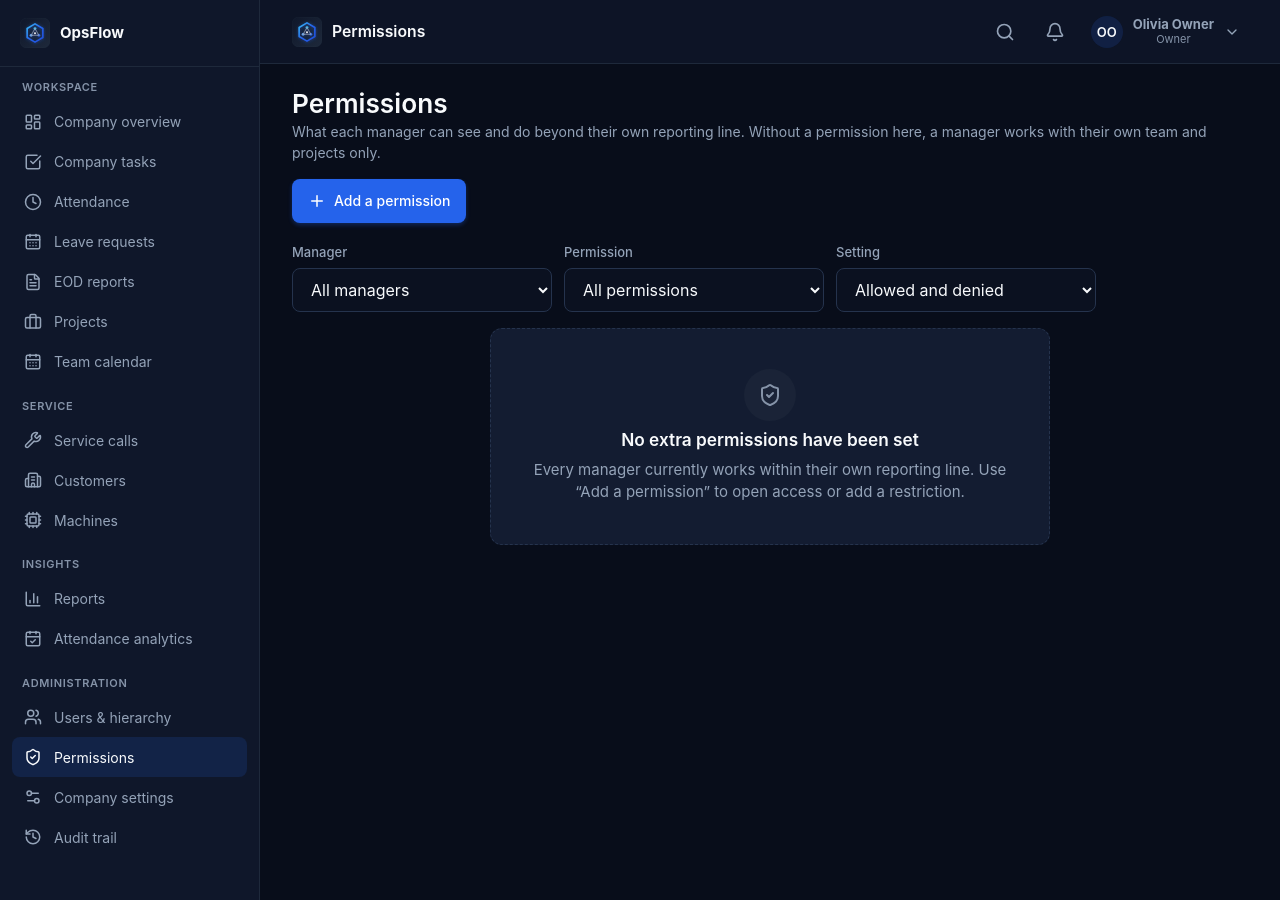
Test case: Add a permission › offers only combinations the backend supports: deny only where it changes something
Click the button "Add a permission": coordinates (379, 201) [292,179,466,223]
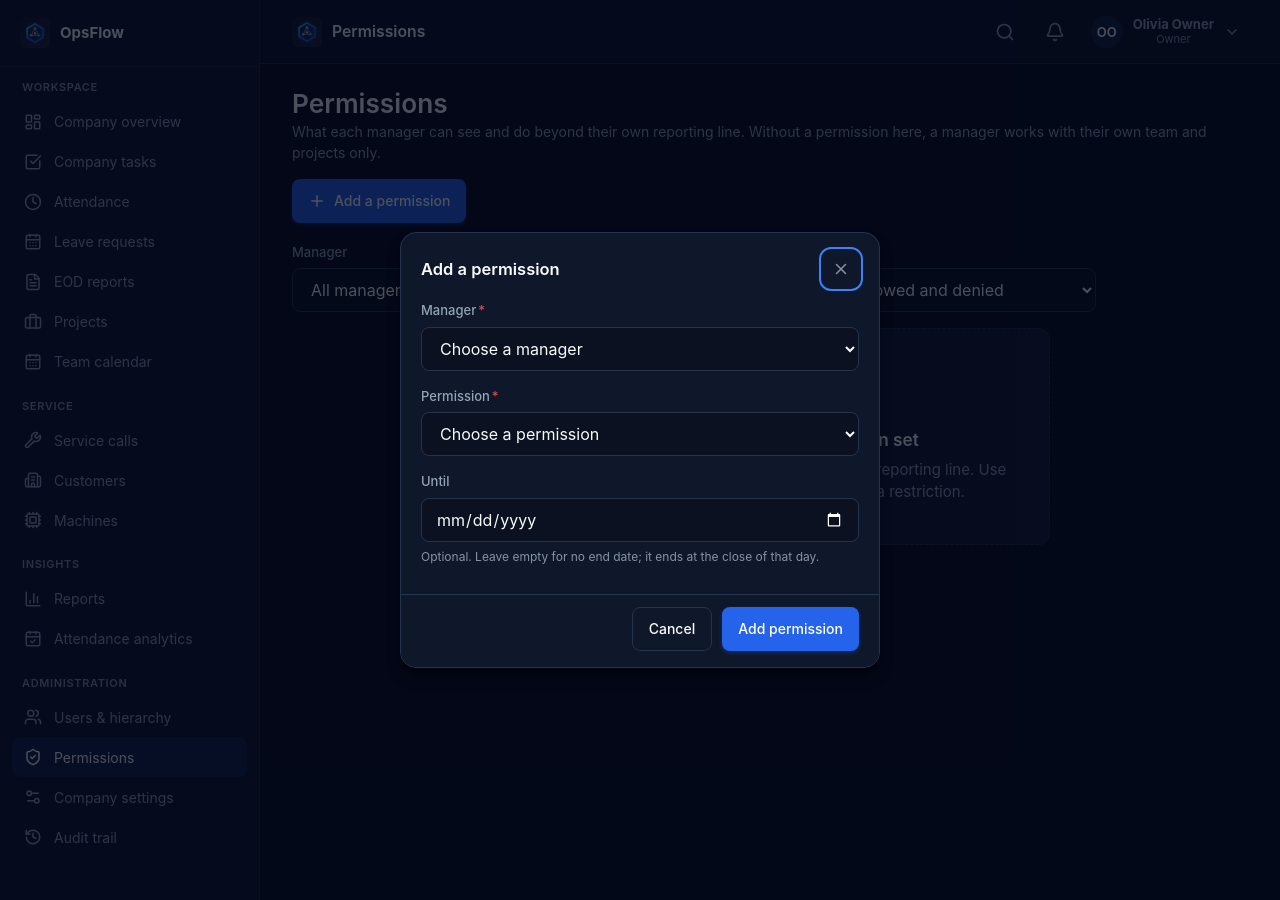
Select "Manager visibility: See another manager's team" in the dropdown labelled "Permission*": coordinates (640, 434) [421,412,859,456]
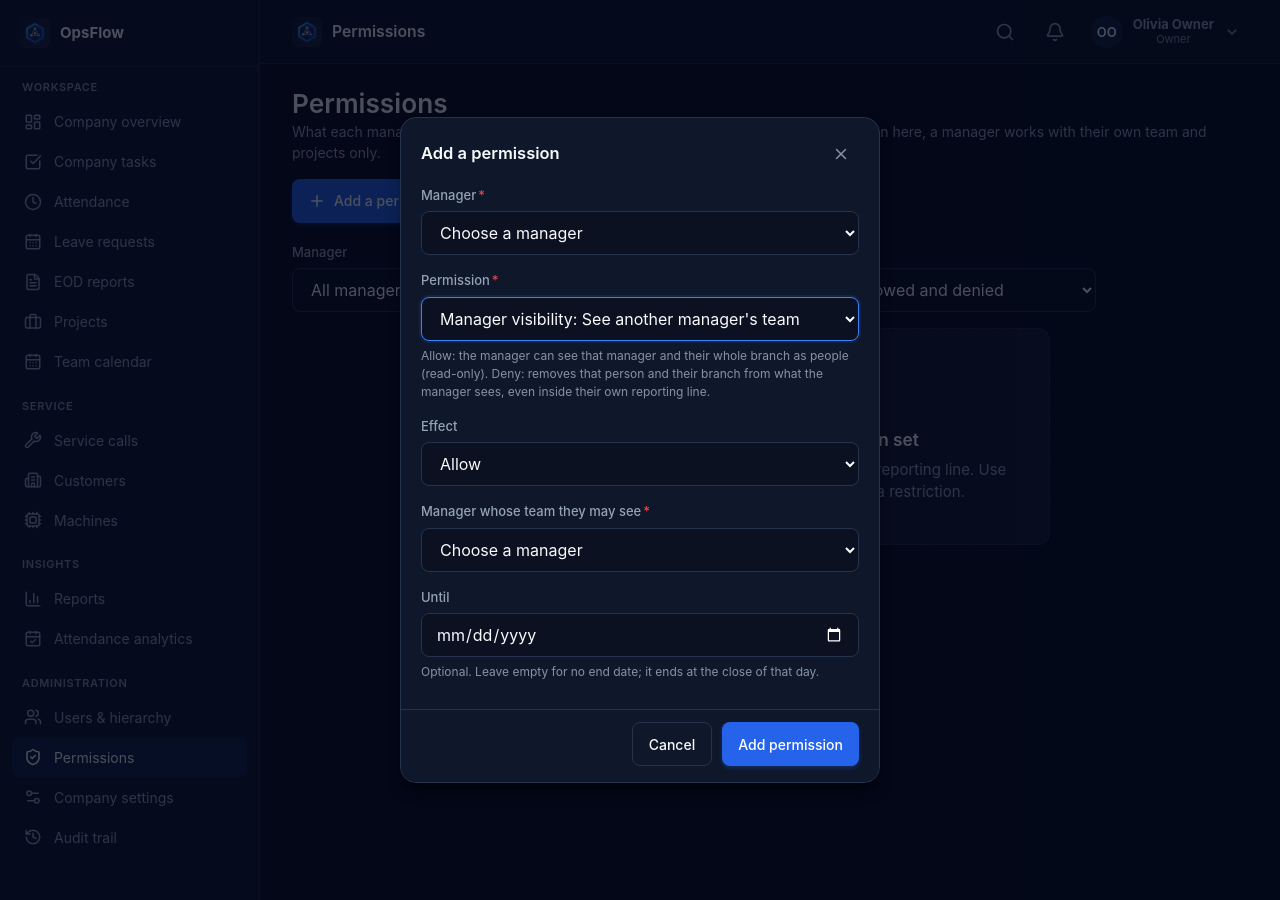
expect the dropdown labelled "Effect" is shown: met, box [421,442,859,486]
Select "Projects: Edit a project they do not own" in the dropdown labelled "Permission*": coordinates (640, 319) [421,297,859,341]
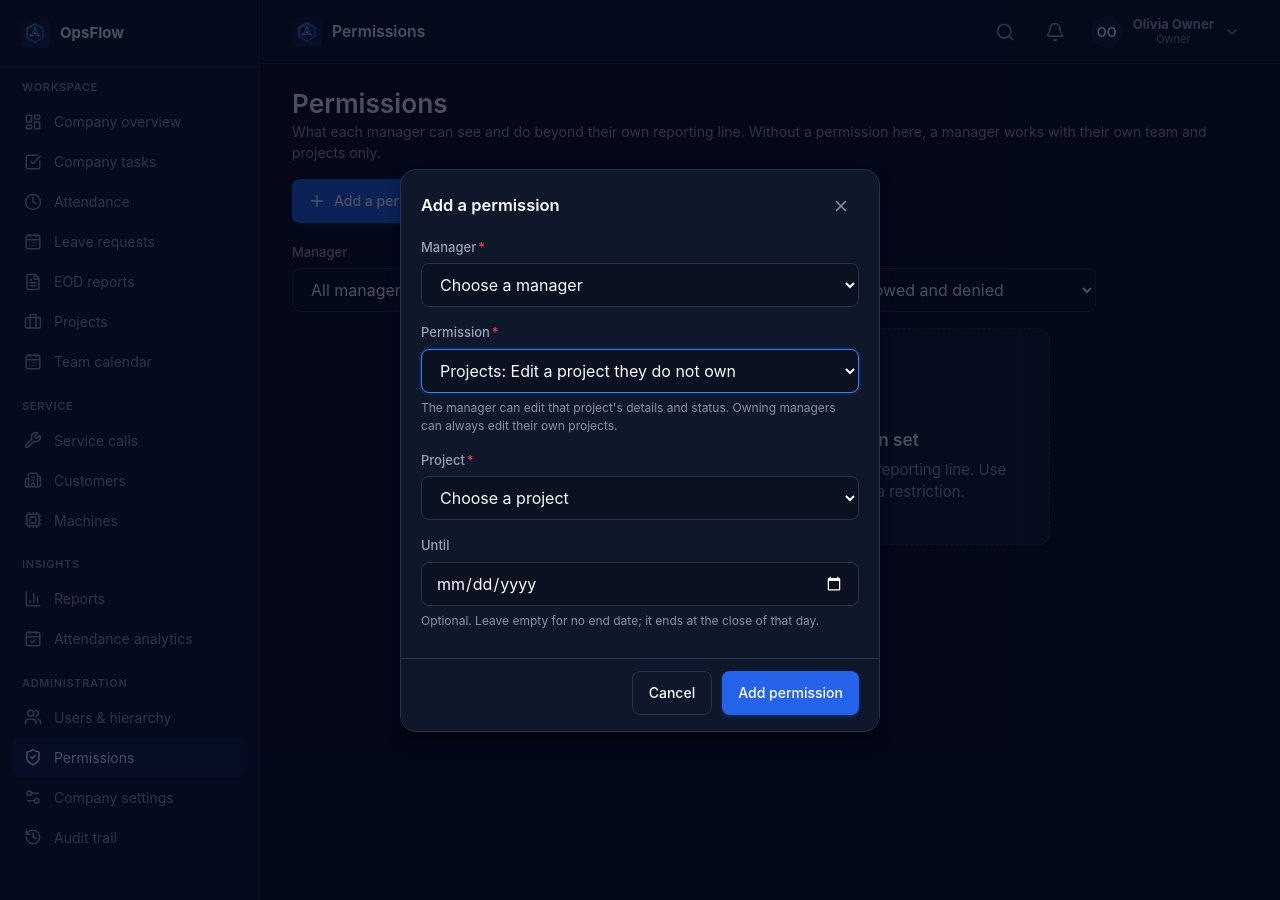
expect the dropdown labelled "Project*" is shown: met, box [421,476,859,520]
expect the label labelled "Effect" is gone: met
Select "Projects: Create projects" in the dropdown labelled "Permission*": coordinates (640, 370) [421,348,859,392]
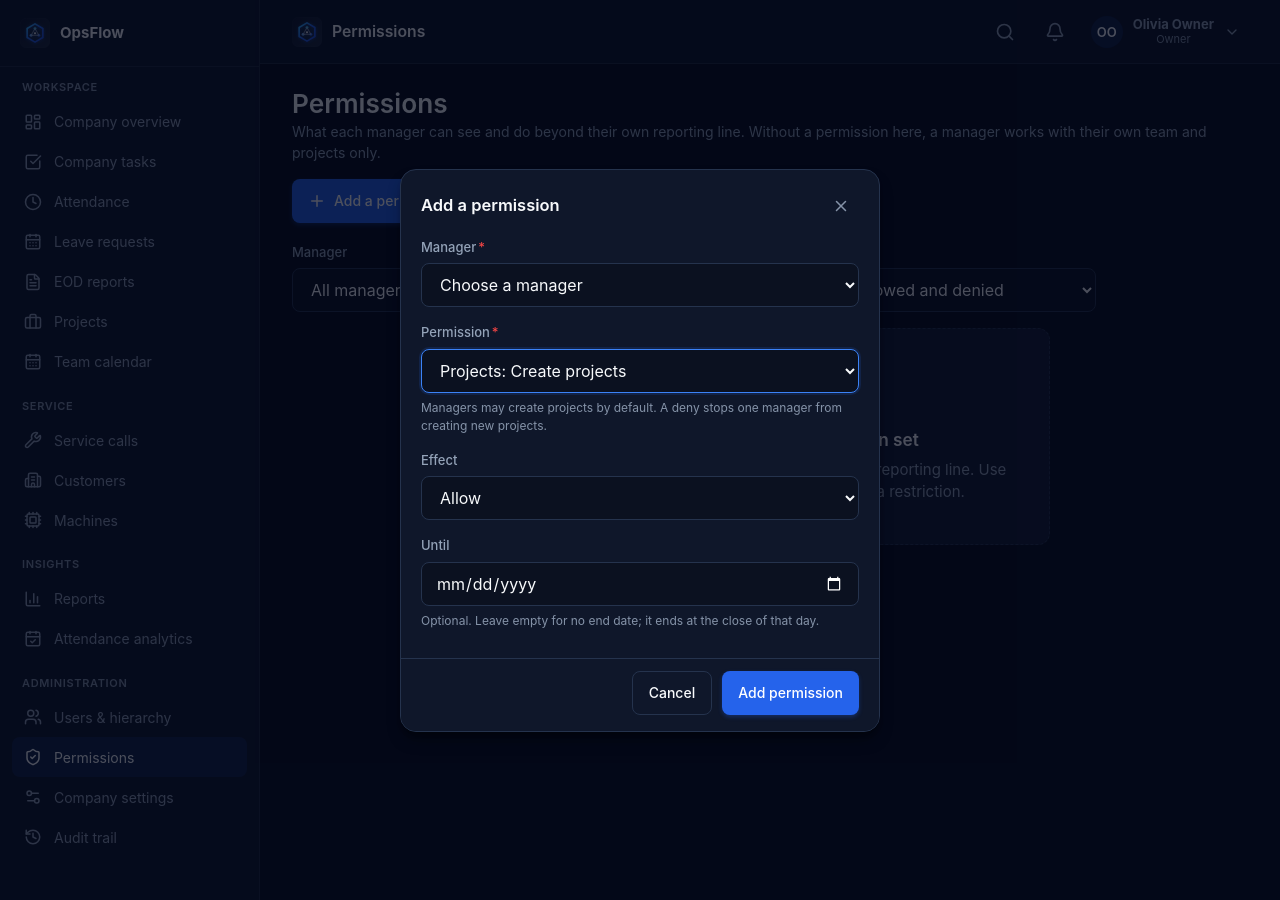
expect the dropdown labelled "Effect" is shown: met, box [421,476,859,520]
expect the label labelled "Project*" is gone: met
